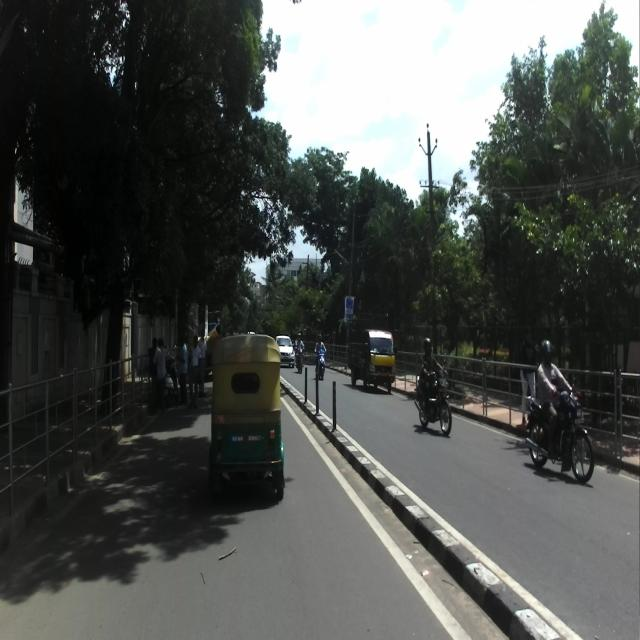autorickshaw: (208, 334, 285, 505)
motorcycle_Hero: (525, 376, 594, 483)
motorcycle_Yamaha: (414, 359, 452, 437)
truck: (348, 309, 397, 393)
